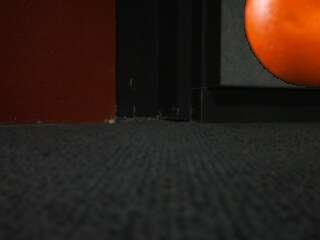Orange: (244, 0, 320, 88)
